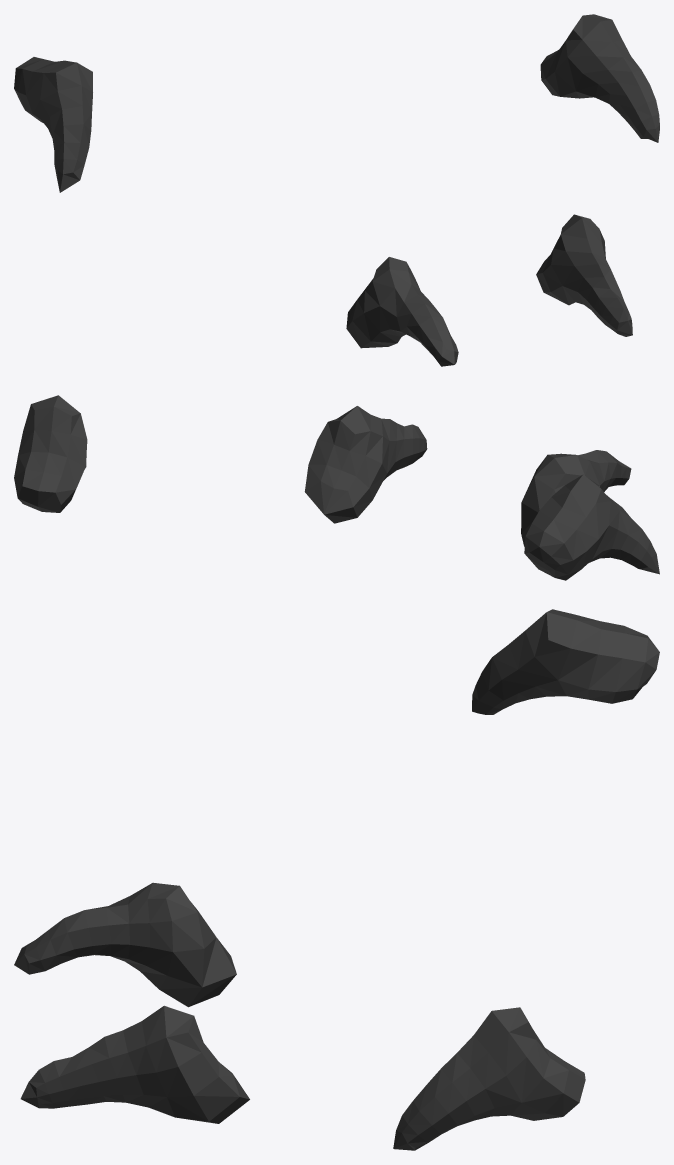
The picture shows the model from 3 angles, top to bottom: view 1: azimuth 30°, elevation 25°; view 2: azimuth 150°, elevation 25°; view 3: azimuth 270°, elevation 25°; orthographic projection. The views are drawn at different scales.
Parts seen in each view (by area): view 1: P3s; view 2: P3s; view 3: P3s.
Part boxes in pixels (box(x1,y1,x2,y2)): P3s: box(14, 14, 659, 366); P3s: box(14, 395, 659, 580); P3s: box(14, 609, 659, 1150).
Size of the model in its own units: 3.13 by 1.17 by 2.37.
Materials: 1 (1 with a texture image).
